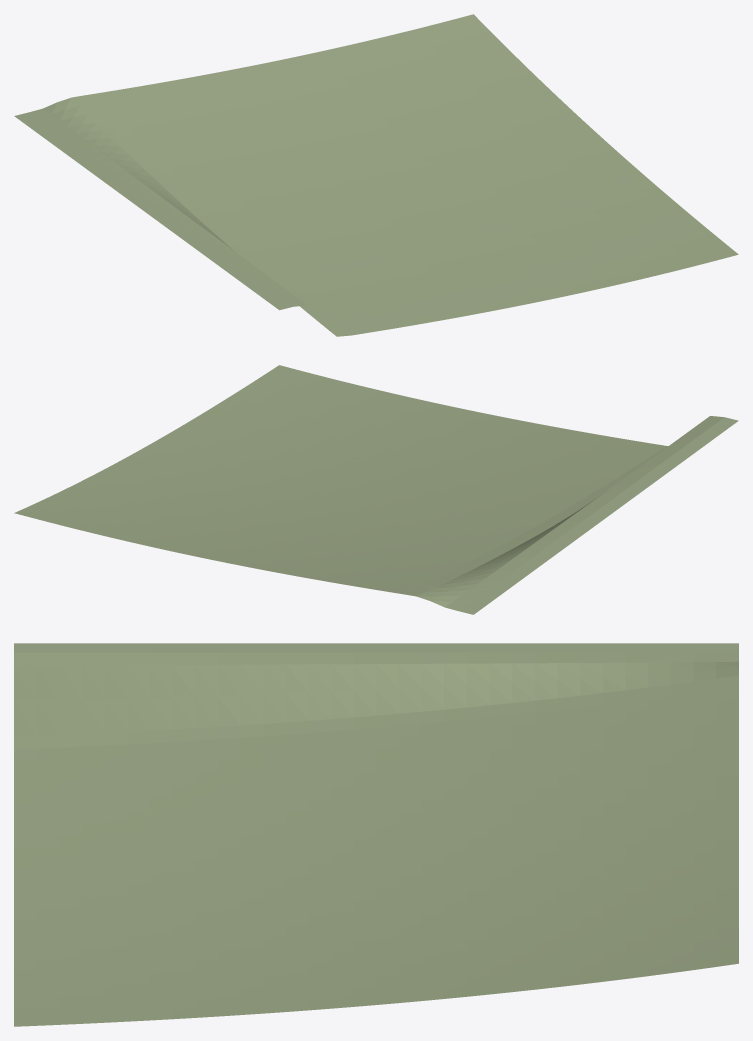
Rendered from valley-8-3.glb.
3 renders of one model, top to bottom at view 1: azimuth 30°, elevation 25°; view 2: azimuth 150°, elevation 25°; view 3: azimuth 270°, elevation 25°, orthographic. The views are drawn at different scales.
Visible parts, largest first — view 1: valley-8-3; view 2: valley-8-3; view 3: valley-8-3.
Boxes of the visible parts, x1,y1,x2,y2 form: valley-8-3: (14, 14, 738, 336); valley-8-3: (14, 365, 738, 614); valley-8-3: (14, 643, 738, 1026).
Bounding box in the file's own units: 256 × 32.95 × 256.
